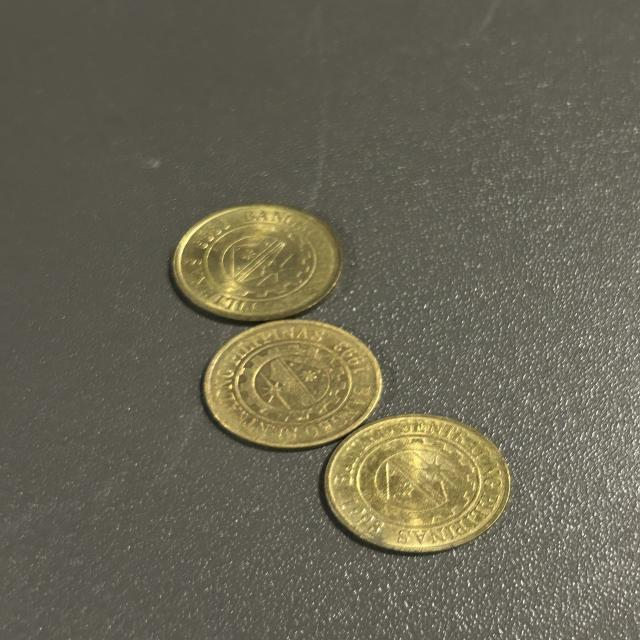25Cent_Old_Back: (220, 335, 364, 440), (186, 211, 334, 306)
